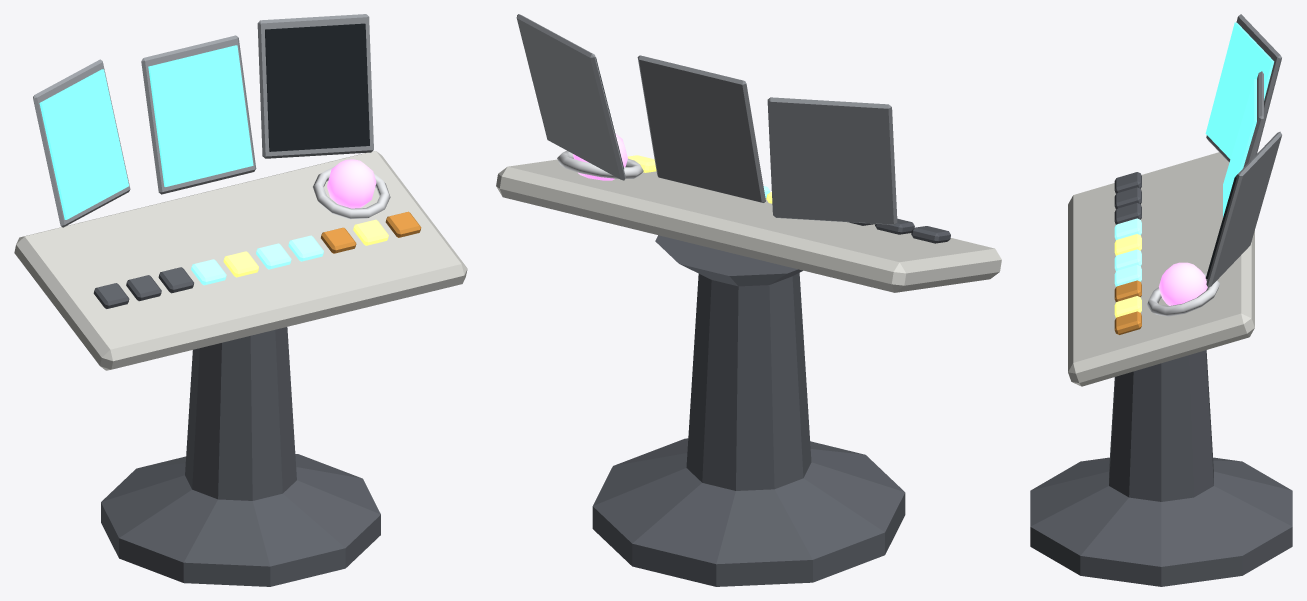
File: terminal_desk.glb
The picture shows the model from 3 angles, left to right: view 1: azimuth 30°, elevation 25°; view 2: azimuth 150°, elevation 25°; view 3: azimuth 270°, elevation 25°; orthographic projection. The views are drawn at different scales.
Parts seen in each view (by area): view 1: terminal_desk; view 2: terminal_desk; view 3: terminal_desk.
Part boxes in pixels (x1,y1,x2,y2): terminal_desk: (14,14,467,586); terminal_desk: (496,14,1001,586); terminal_desk: (1030,14,1292,586).
Bounding box in the file's own units: 1.5 × 1.74 × 0.9511.
